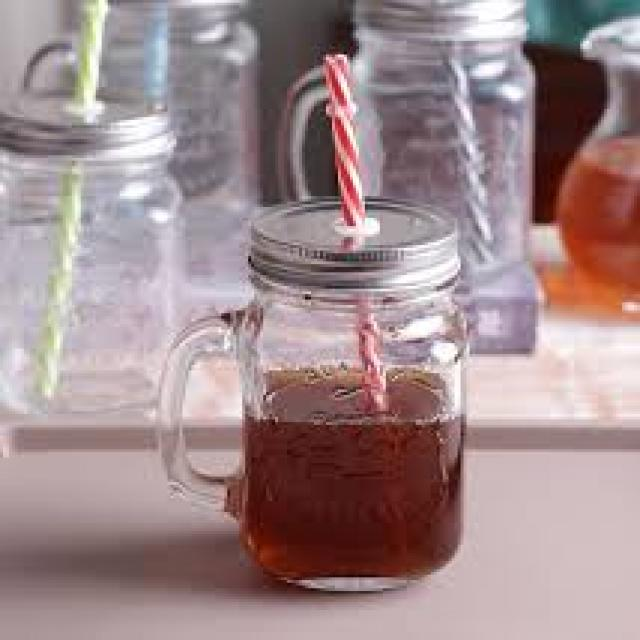organic waste: (245, 360, 458, 578), (553, 139, 637, 294)
